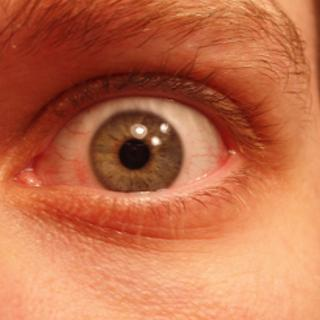pupil: (118, 139, 150, 170)
